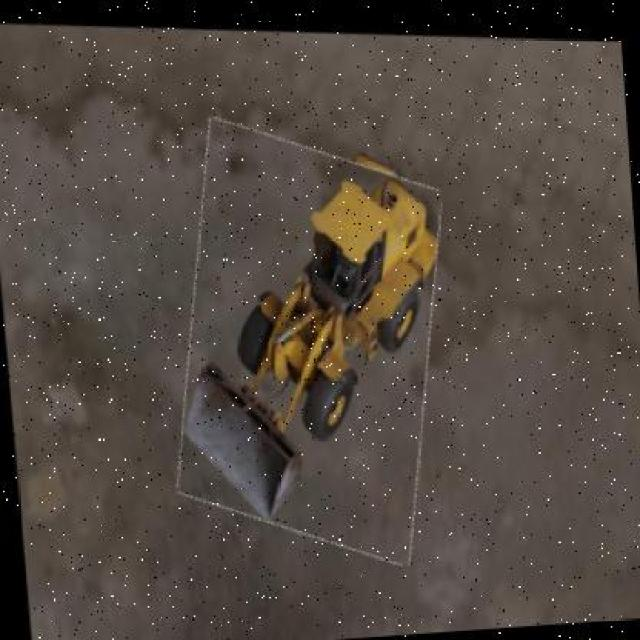buldozerpayloadergrader: (166, 171, 457, 532)
